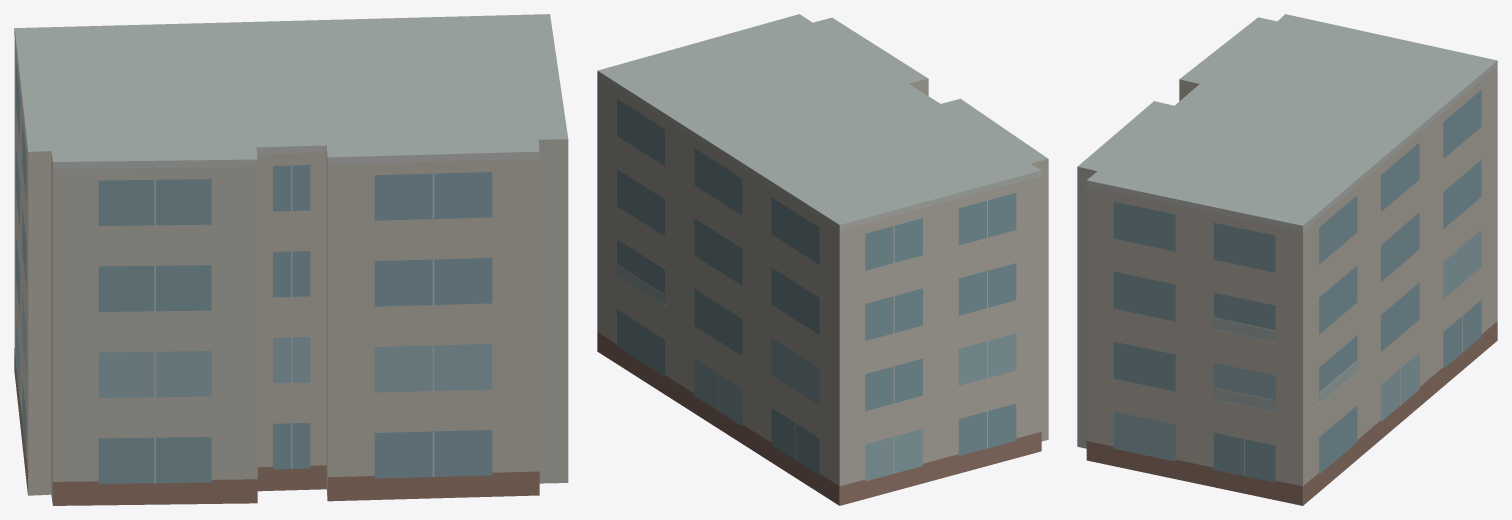
Rendered from survey-upis-32933211.glb.
The picture shows the model from 3 angles, left to right: view 1: azimuth 30°, elevation 25°; view 2: azimuth 150°, elevation 25°; view 3: azimuth 270°, elevation 25°; orthographic projection. The views are drawn at different scales.
Visible parts, largest first — view 1: survey-upis-32933211.tmp; view 2: survey-upis-32933211.tmp; view 3: survey-upis-32933211.tmp.
Boxes of the visible parts, <box> form: survey-upis-32933211.tmp: <box>14,14,568,505</box>; survey-upis-32933211.tmp: <box>597,14,1048,505</box>; survey-upis-32933211.tmp: <box>1077,14,1497,505</box>.
Size of the model in its own units: 19.15 by 11.8 by 16.05.
